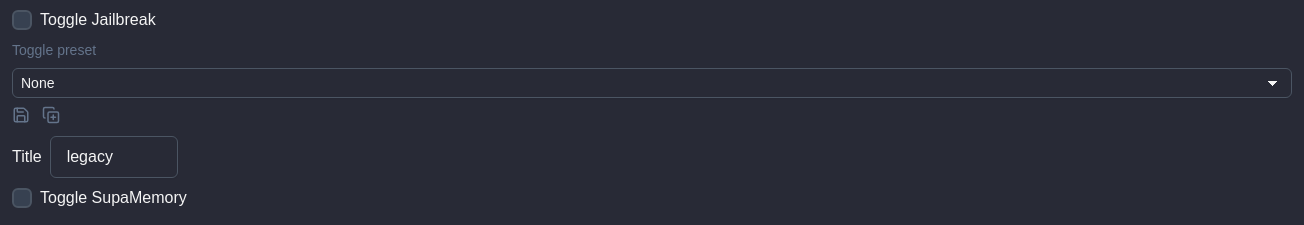
per-chat prompt toggles › ignores an input event when its chat unloaded after render, before the disabled state flushed
Replace the text in the field with "too late" at (114, 157), box left=50, top=136, right=178, bottom=178
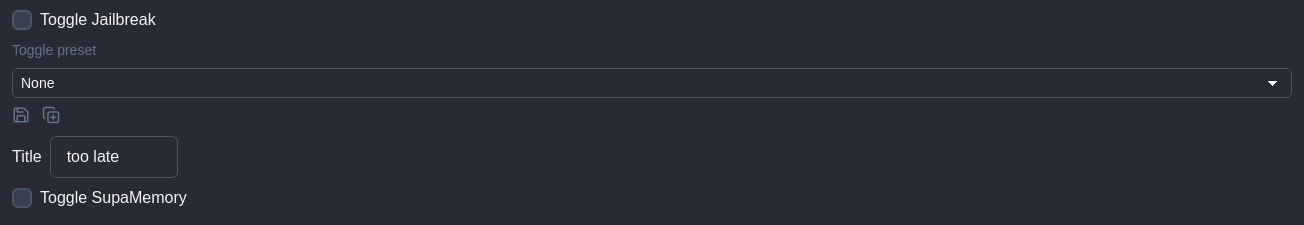
Now the element showing "Toggle preset Title" is disabled
